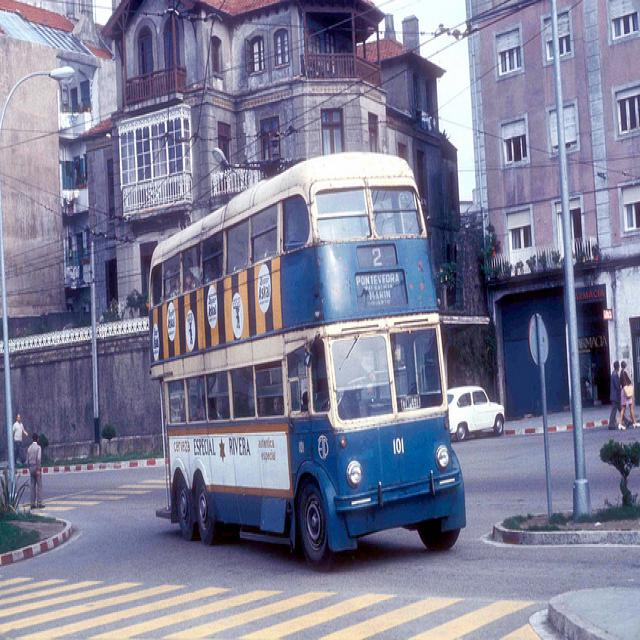Vehicle: (140, 142, 467, 577), (448, 385, 504, 442)
